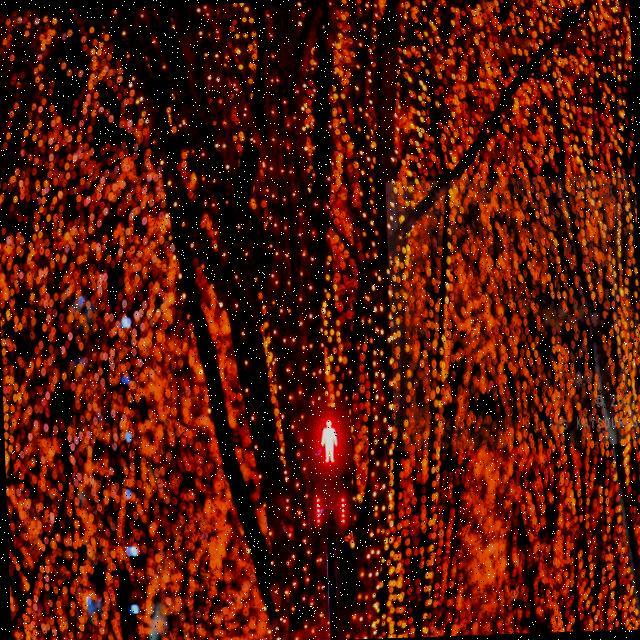red_light: (318, 416, 339, 468)
